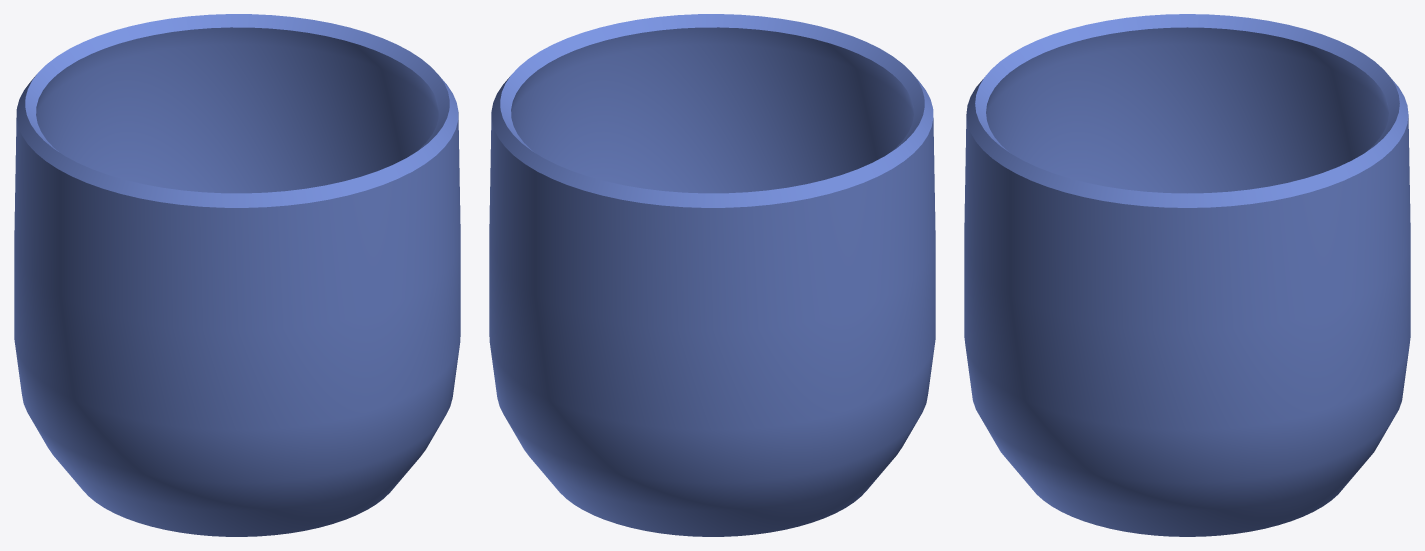
The model's file is cup5.glb.
The picture shows the model from 3 angles, left to right: view 1: azimuth 30°, elevation 25°; view 2: azimuth 150°, elevation 25°; view 3: azimuth 270°, elevation 25°; orthographic projection.
Visible parts, largest first — view 1: Cup5.001; view 2: Cup5.001; view 3: Cup5.001.
Boxes of the visible parts, bbox=[...] form: Cup5.001: bbox=[14, 14, 460, 536]; Cup5.001: bbox=[489, 14, 935, 536]; Cup5.001: bbox=[964, 14, 1410, 536].
Size of the model in its own units: 1.49 by 1.34 by 1.49.
